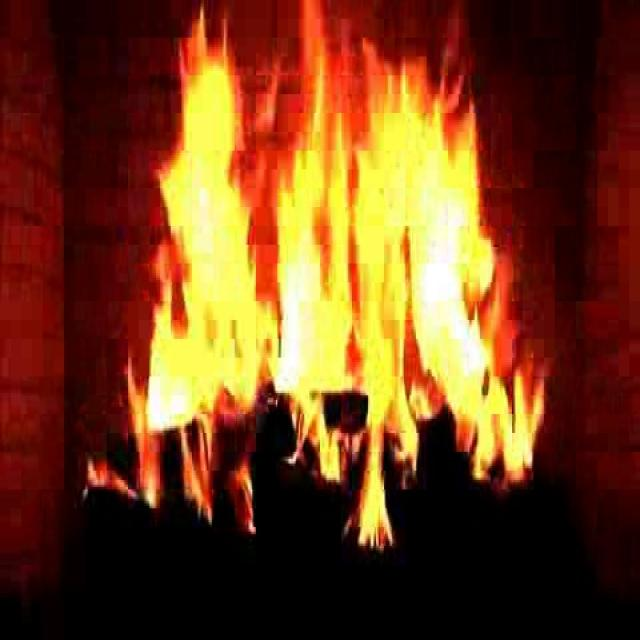smoke: (139, 33, 529, 518)
